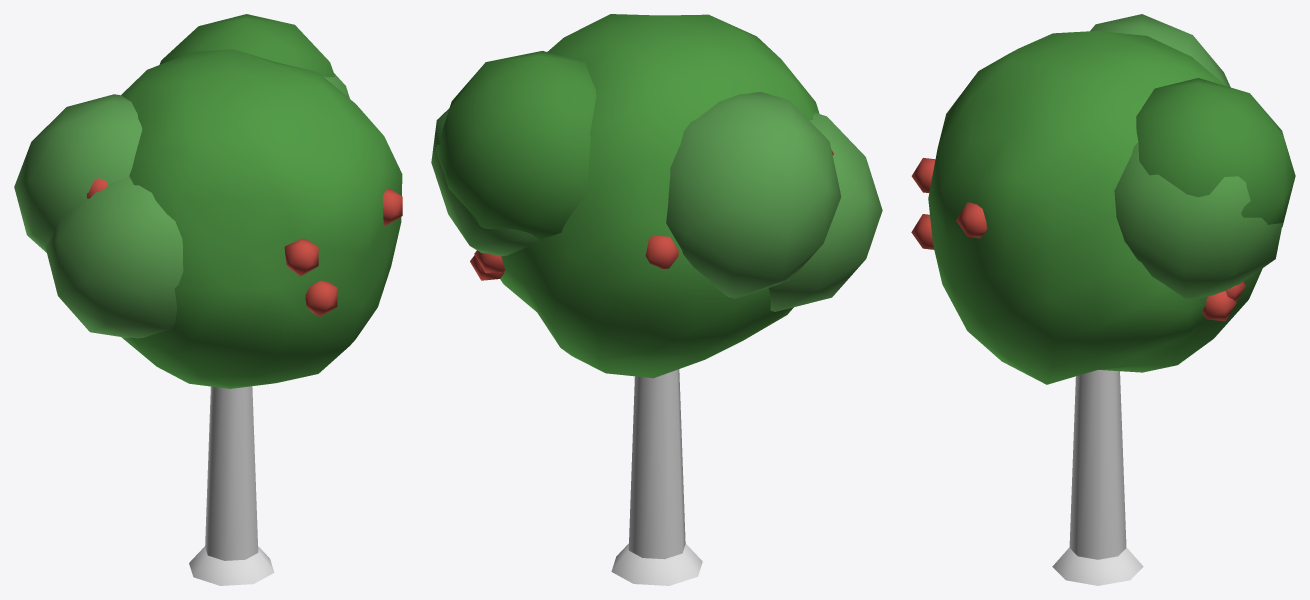
The model's file is tree_fruit.fbx.
3 renders of one model, left to right at view 1: azimuth 30°, elevation 25°; view 2: azimuth 150°, elevation 25°; view 3: azimuth 270°, elevation 25°, orthographic. The views are drawn at different scales.
Visible parts, largest first — view 1: tree_fruit_canopy, tree_fruit; view 2: tree_fruit_canopy, tree_fruit; view 3: tree_fruit_canopy, tree_fruit.
Boxes of the visible parts, x1,y1,x2,y2 form: tree_fruit_canopy: [14, 14, 402, 388]; tree_fruit: [189, 386, 274, 585]; tree_fruit_canopy: [431, 14, 882, 378]; tree_fruit: [611, 369, 702, 585]; tree_fruit_canopy: [911, 14, 1295, 384]; tree_fruit: [1052, 370, 1143, 585].
Bounding box in the file's own units: 0.9749 × 1.37 × 0.9249.
